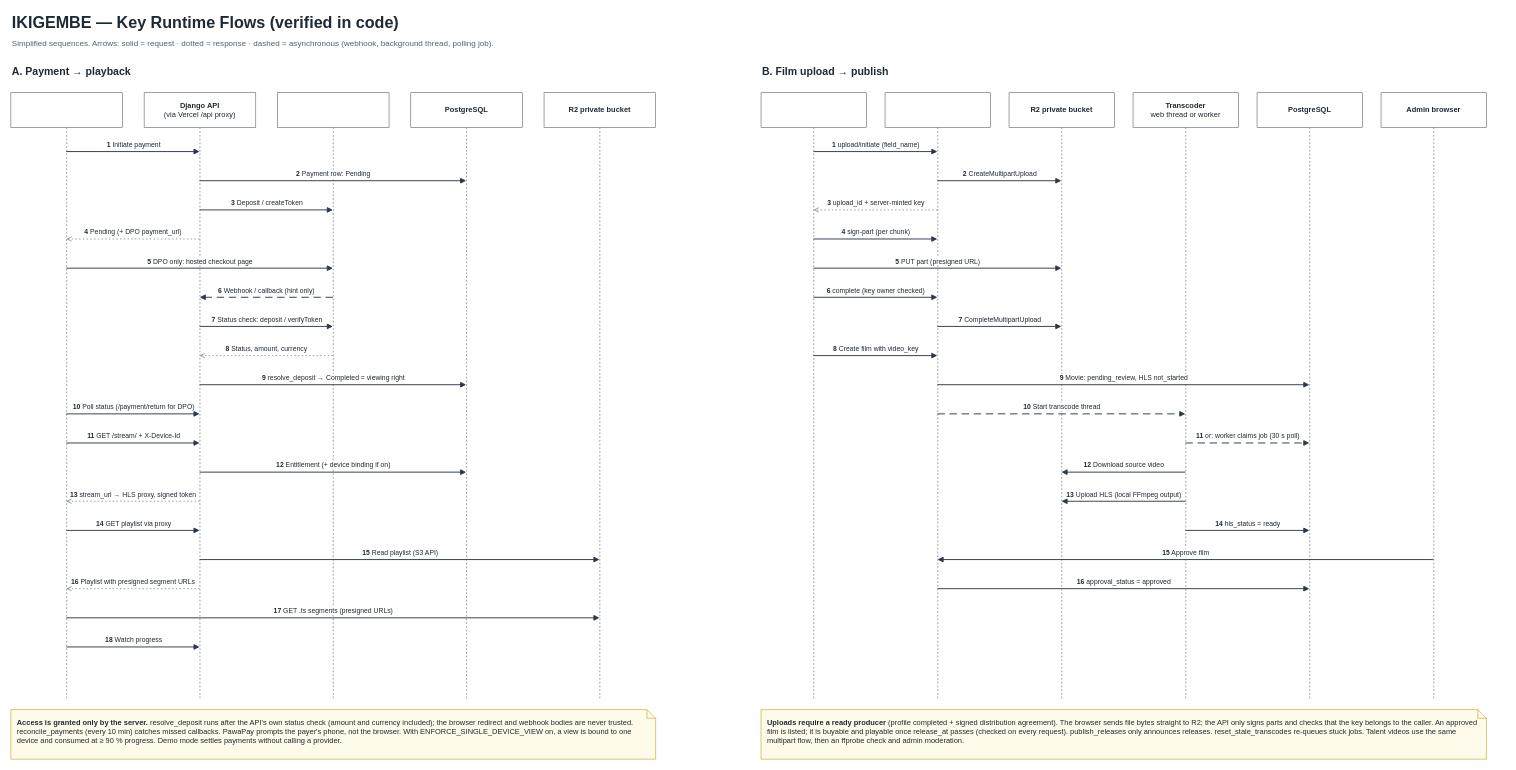
The diagram is 1516 pixels wide and 770 high, and some of its shapes have lost their labels. Each missing label, with the box of its shape:
Django API: (884, 92, 990, 700)
Payment gateway PawaPay or DPO: (277, 92, 389, 700)
Producer browser (ready producer): (760, 92, 866, 700)
Viewer browser Angular SPA: (10, 92, 122, 700)
